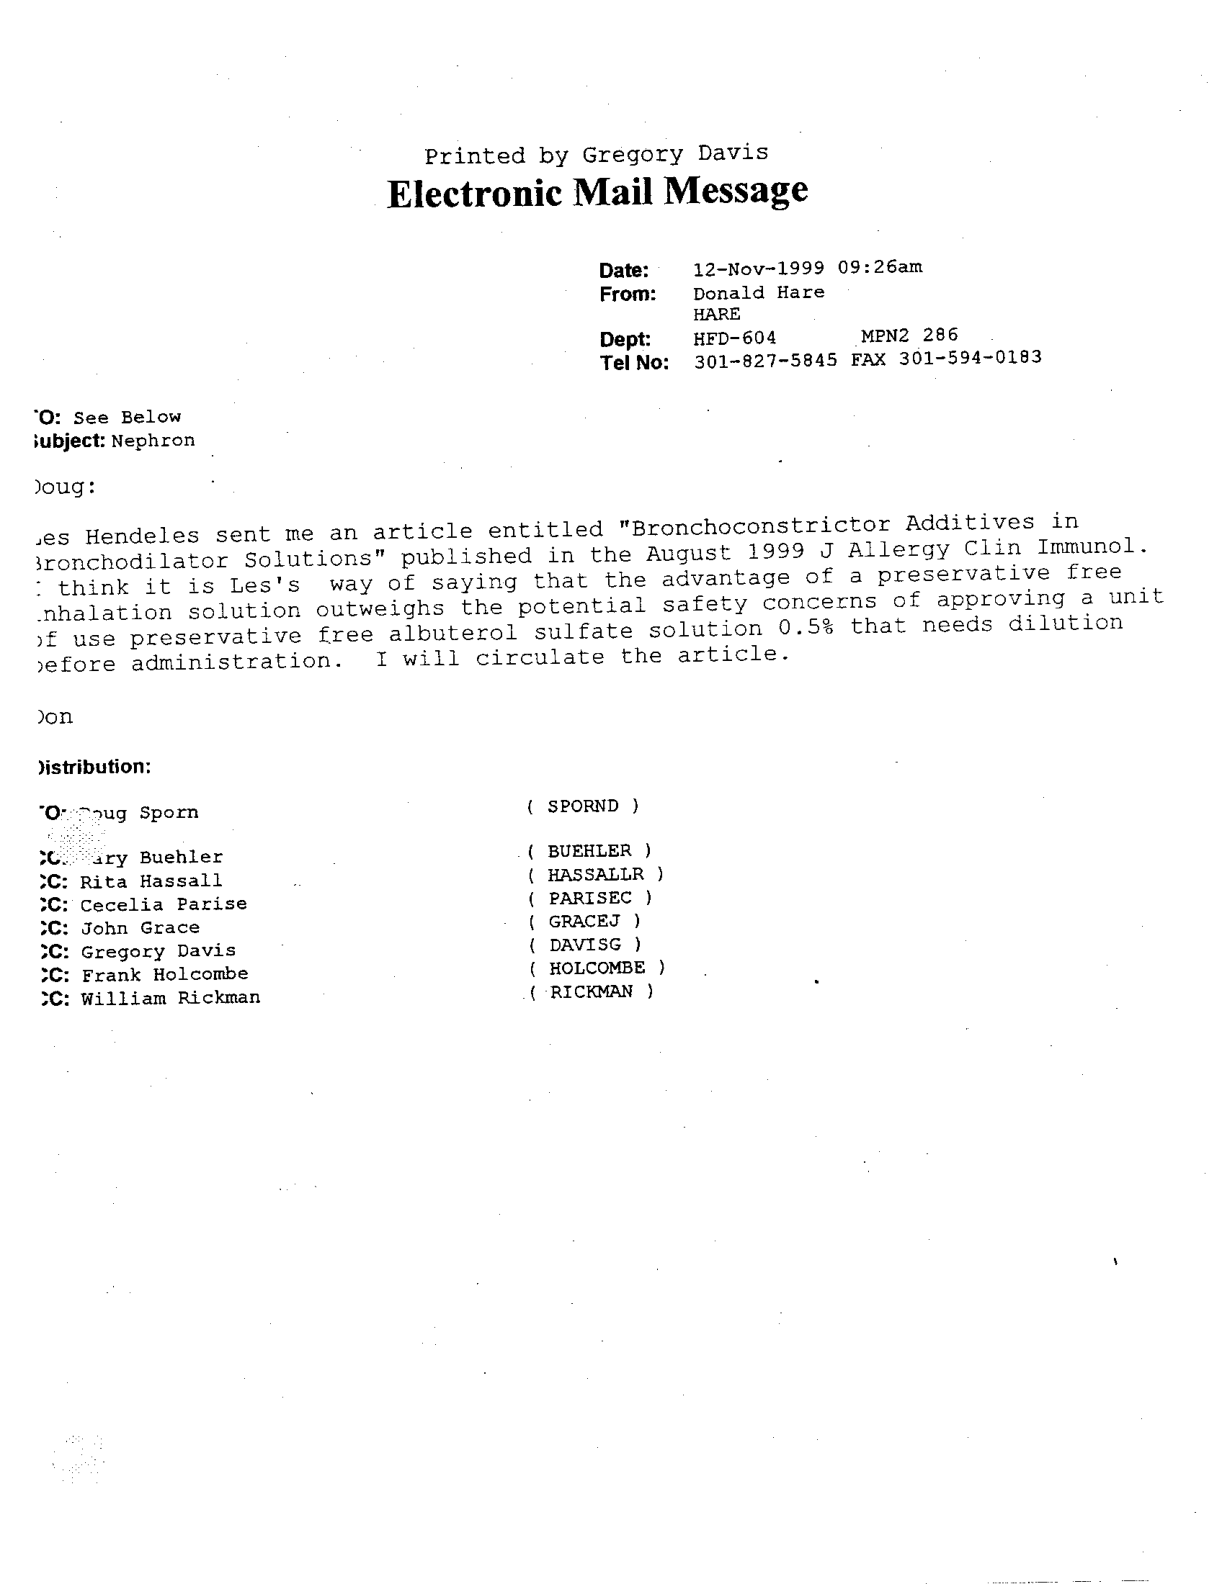nolines: (33, 791, 669, 1008)
